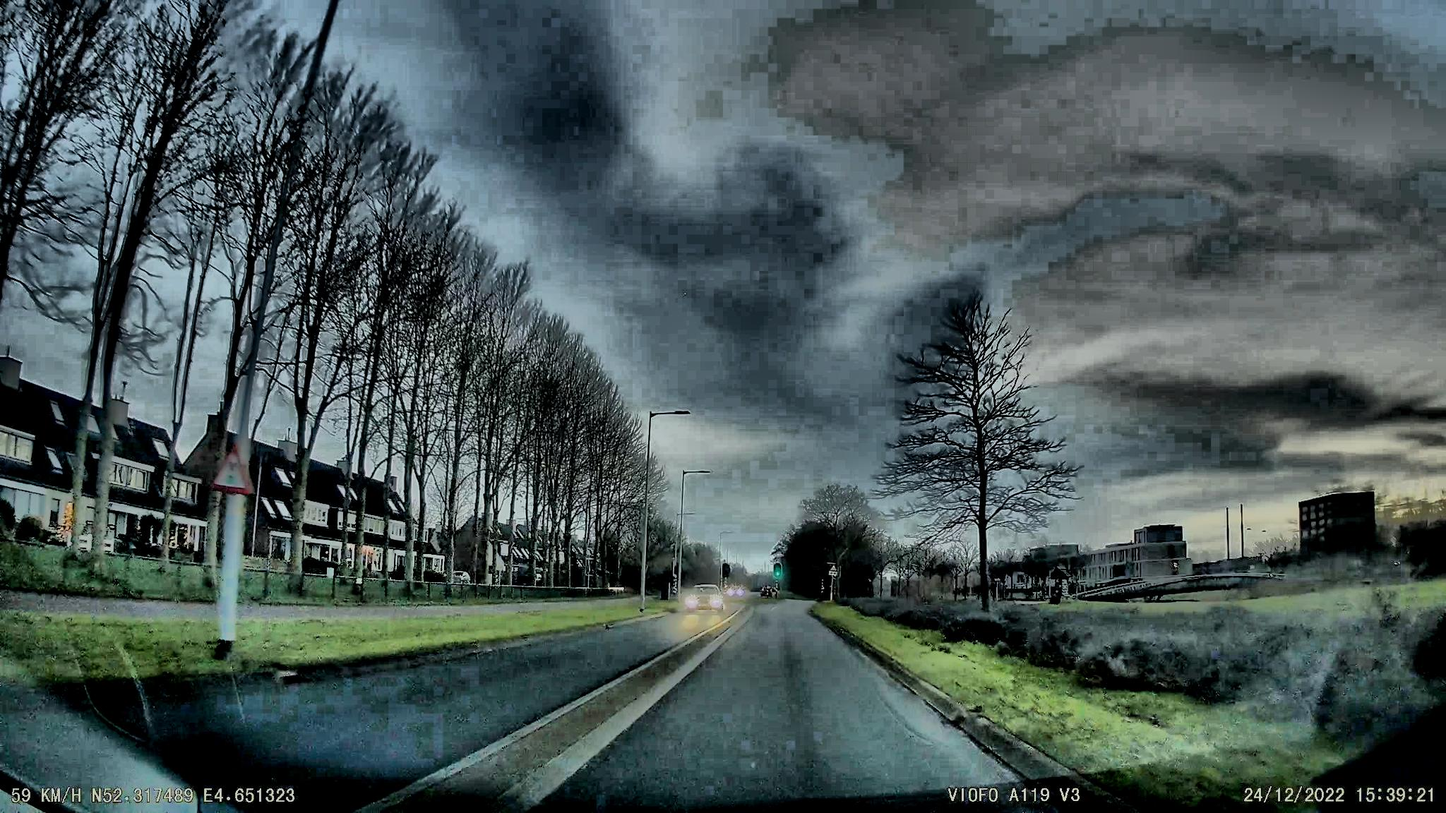Roads: (21, 602, 1139, 813)
